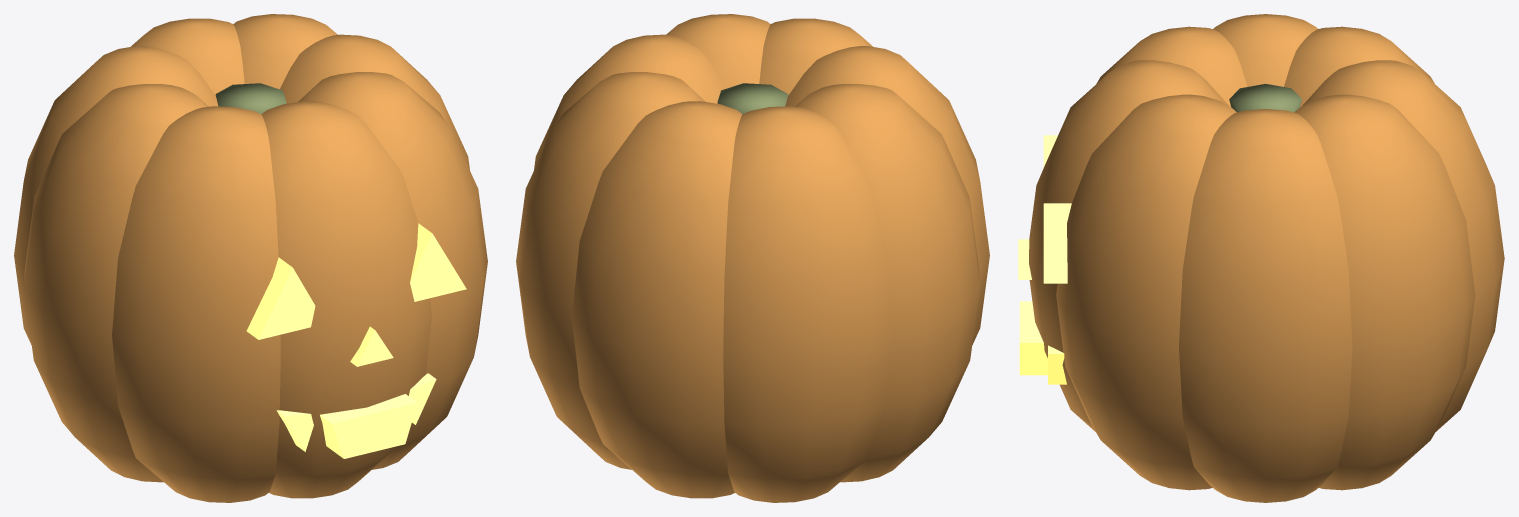
File: Jack_O_Lantern.fbx
3 renders of one model, left to right at view 1: azimuth 30°, elevation 25°; view 2: azimuth 150°, elevation 25°; view 3: azimuth 270°, elevation 25°, orthographic.
Visible parts, largest first — view 1: Jack_O_Lantern_Mesh; view 2: Jack_O_Lantern_Mesh; view 3: Jack_O_Lantern_Mesh.
Part boxes in pixels (x1,y1,x2,y2): Jack_O_Lantern_Mesh: (14, 14, 487, 502); Jack_O_Lantern_Mesh: (516, 14, 989, 502); Jack_O_Lantern_Mesh: (1018, 14, 1504, 502).
Bounding box in the file's own units: 0.34 × 0.3 × 0.346.
